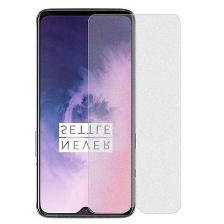phone: (33, 5, 138, 223)
